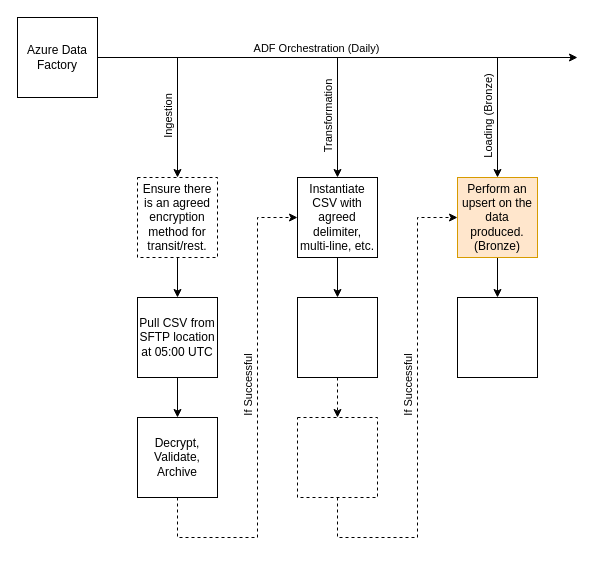
This 603x563 diagram has some shape labels left out. Here are the shapes that lost their labels. From the top down, the box of each, then its label:
(296, 296, 378, 378): Data Cleansing (Python Notebook, Databricks)
(456, 296, 538, 378): Log appropriately.
(296, 416, 378, 498): Produce intermediary file (Parquet, if necessary, etc)
